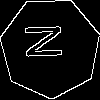N: (25, 22, 72, 61)
